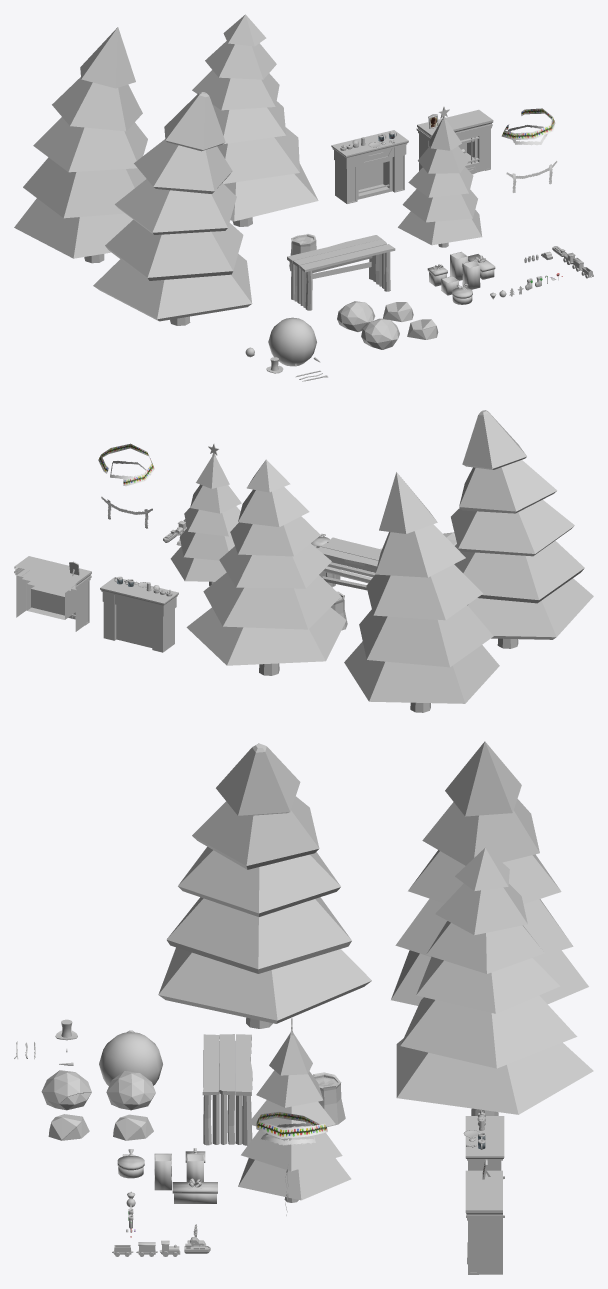
Rendered from ChristmasSet.fbx.
3 renders of one model, top to bottom at view 1: azimuth 30°, elevation 25°; view 2: azimuth 150°, elevation 25°; view 3: azimuth 270°, elevation 25°, orthographic. The views are drawn at different scales.
Parts seen in each view (by area): view 1: Big Tree (Snow), Big Tree 2, Big Tree 1, Xmas Tree, Fireplace 2, Wooden Table, Fireplace, Snow Ball (Big), Bush (snow), Bush, Xmas Tree Ac 1, Rock (Snow) (+2 smaller); view 2: Big Tree 2, Big Tree (Snow), Big Tree 1, Xmas Tree, Fireplace 2, Fireplace, Wooden Table, Xmas Tree Ac 1; view 3: Big Tree (Snow), Big Tree 1, Big Tree 2, Xmas Tree, Wooden Table, Fireplace, Snow Ball (Big), Fireplace 2, Bush (snow), Bush, Xmas Tree Ac 1, Chopped Tree (+2 smaller).
Part boxes in pixels (x1,y1,x2,y2): Big Tree (Snow): (93, 92, 252, 325); Big Tree 2: (14, 27, 147, 263); Big Tree 1: (192, 14, 318, 226); Xmas Tree: (398, 118, 482, 247); Fireplace 2: (331, 130, 408, 203); Wooden Table: (287, 235, 395, 310); Fireplace: (416, 109, 493, 174); Snow Ball (Big): (268, 317, 316, 366); Bush (snow): (361, 318, 399, 349); Bush: (337, 301, 375, 331); Xmas Tree Ac 1: (501, 108, 555, 139); Rock (Snow): (407, 319, 438, 339); Big Tree 2: (344, 472, 499, 712); Big Tree (Snow): (451, 410, 593, 648); Big Tree 1: (186, 459, 346, 675); Xmas Tree: (170, 455, 241, 585); Fireplace 2: (100, 577, 178, 652); Fireplace: (14, 556, 91, 631); Wooden Table: (317, 537, 381, 590); Xmas Tree Ac 1: (98, 443, 154, 486); Big Tree (Snow): (158, 743, 371, 1028); Big Tree 1: (396, 847, 593, 1115); Big Tree 2: (391, 741, 588, 1005); Xmas Tree: (238, 1033, 351, 1202); Wooden Table: (202, 1034, 252, 1145); Fireplace: (465, 1170, 504, 1274); Snow Ball (Big): (99, 1032, 162, 1085); Fireplace 2: (465, 1116, 504, 1170); Bush (snow): (41, 1070, 91, 1110); Bush: (106, 1071, 155, 1110); Xmas Tree Ac 1: (256, 1112, 327, 1138); Chopped Tree: (312, 1072, 345, 1127).
Bounding box in the file's own units: 1082 × 560 × 901.
